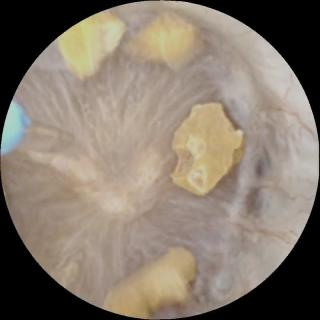fiber: (1, 104, 28, 154)
stone: (173, 103, 244, 195), (104, 248, 194, 317), (58, 14, 125, 78), (125, 14, 202, 69)
tissue: (8, 11, 314, 313)
